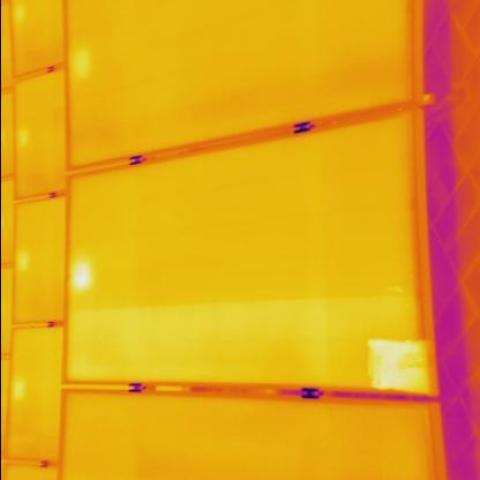fault: (366, 342, 432, 390), (66, 258, 94, 291)
